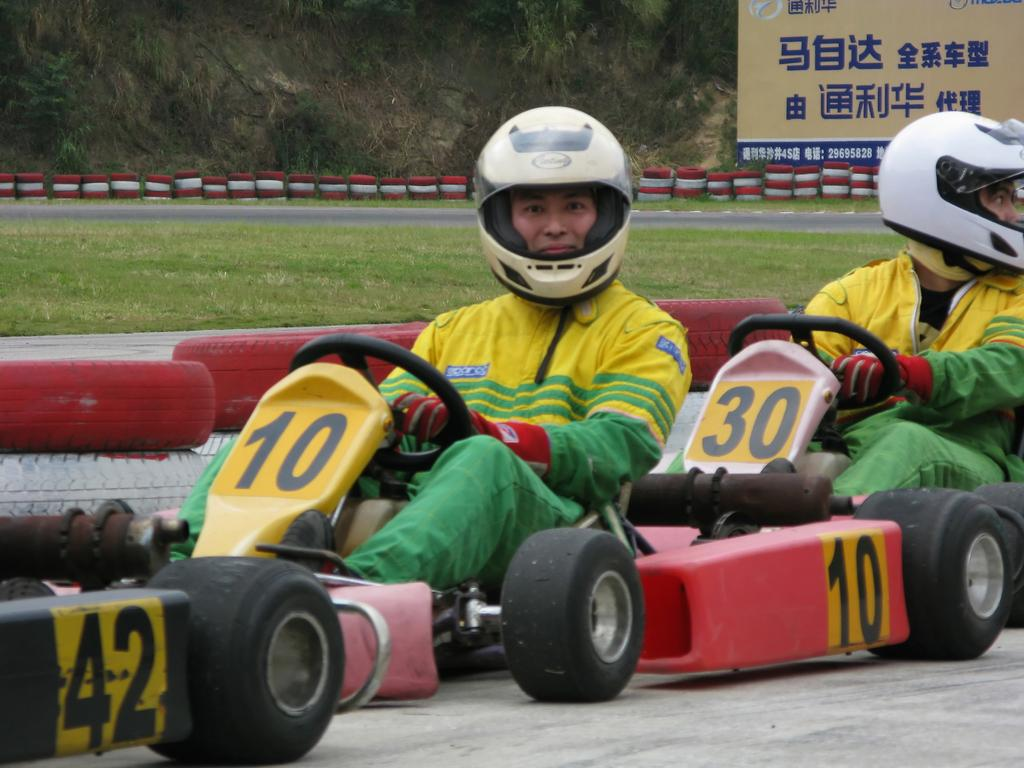helmet: (475, 106, 633, 306), (877, 110, 1024, 275)
